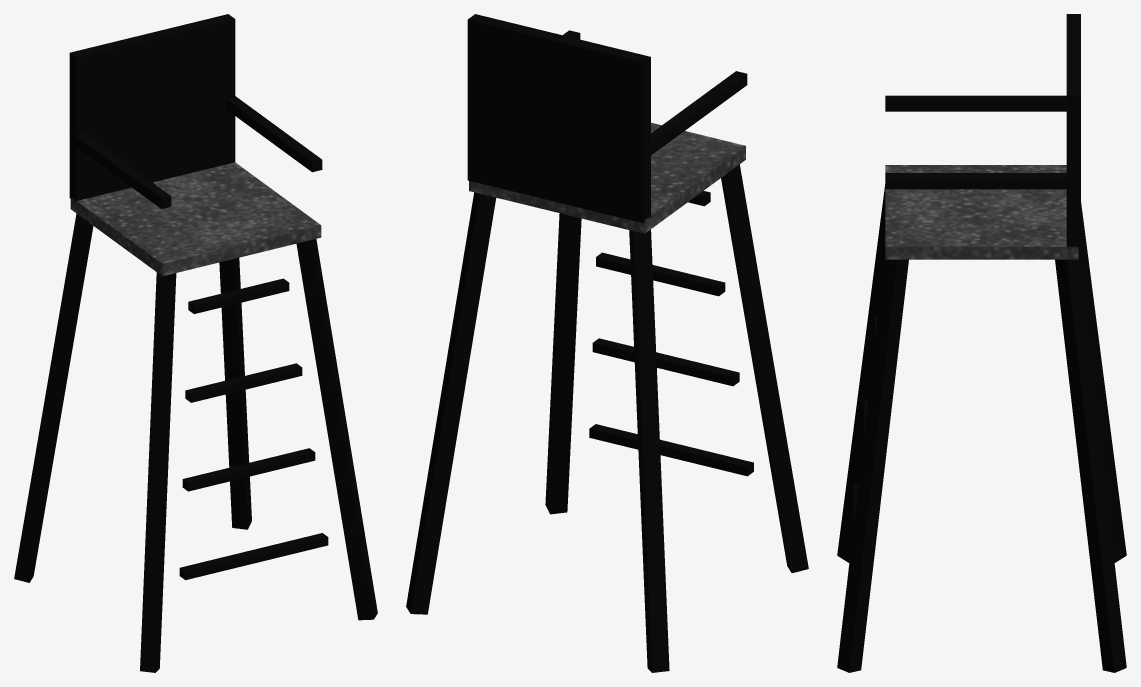
File: SM_lifeguard_chair.fbx
3 renders of one model, left to right at view 1: azimuth 30°, elevation 25°; view 2: azimuth 150°, elevation 25°; view 3: azimuth 270°, elevation 25°, orthographic. The views are drawn at different scales.
Parts seen in each view (by area): view 1: lifeguard_chair; view 2: lifeguard_chair; view 3: lifeguard_chair.
Part boxes in pixels (x1=…): lifeguard_chair: x1=14, y1=14, x2=377, y2=672; lifeguard_chair: x1=406, y1=14, x2=808, y2=672; lifeguard_chair: x1=837, y1=14, x2=1126, y2=672.
Size of the model in its own units: 1.2 by 2.56 by 1.2.
